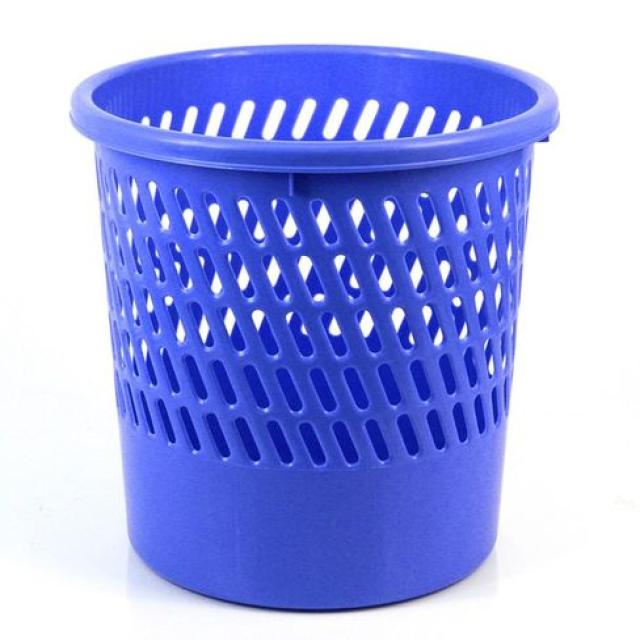dustbin: (68, 34, 562, 619)
